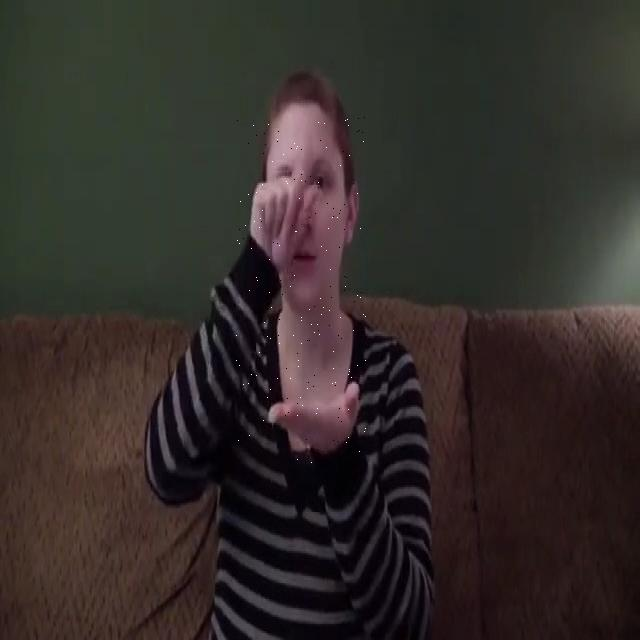chicken: (236, 110, 366, 463)
